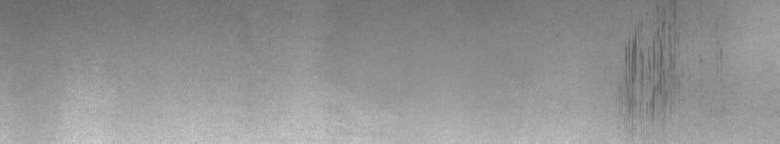ka: (621, 4, 722, 120)
